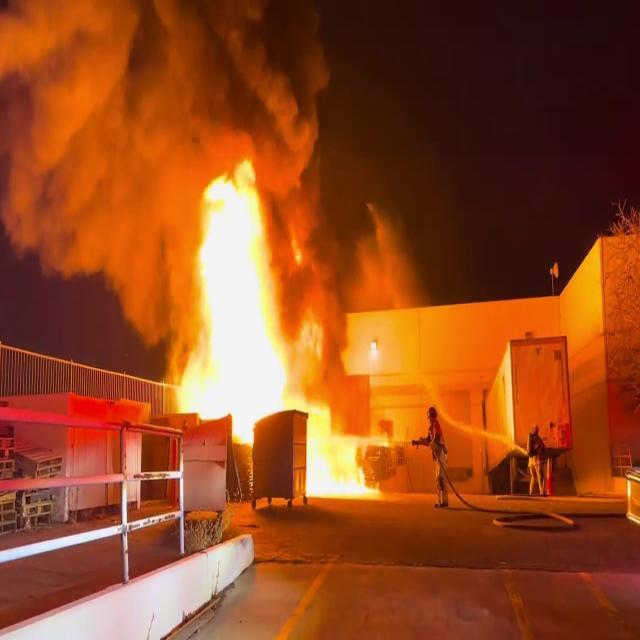Fire: (160, 158, 314, 438), (303, 418, 377, 506)
Smoke: (0, 0, 334, 240)
